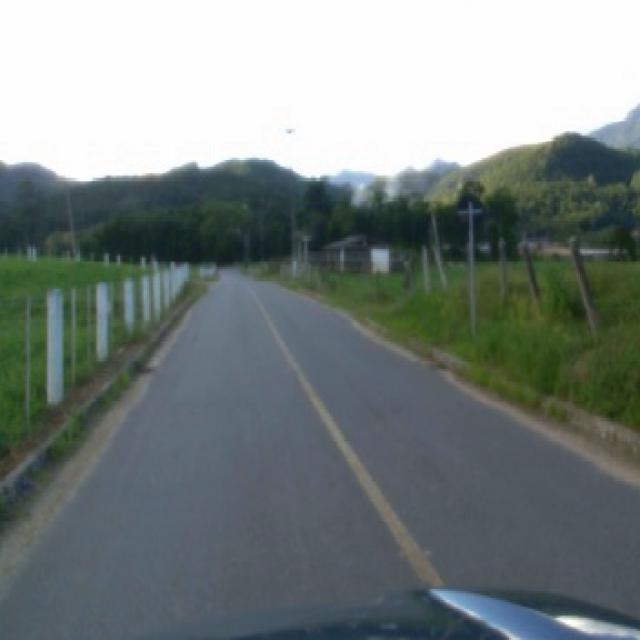Poth-hole: (133, 354, 156, 374)
